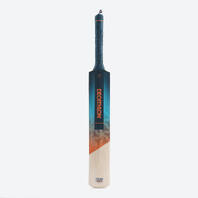bottom left: (85, 177, 97, 189)
bottom right: (103, 178, 116, 191)
top left: (84, 67, 96, 79)
top right: (105, 68, 116, 79)
